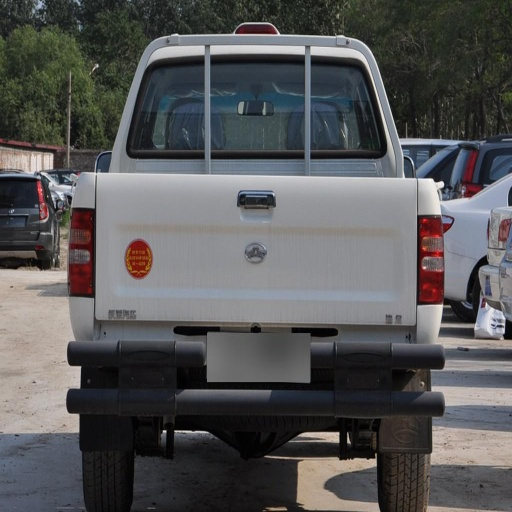back_bumper: (71, 335, 324, 418)
back_left_light: (67, 211, 94, 297)
back_right_door: (131, 60, 193, 156)
trunk: (81, 161, 416, 353)
